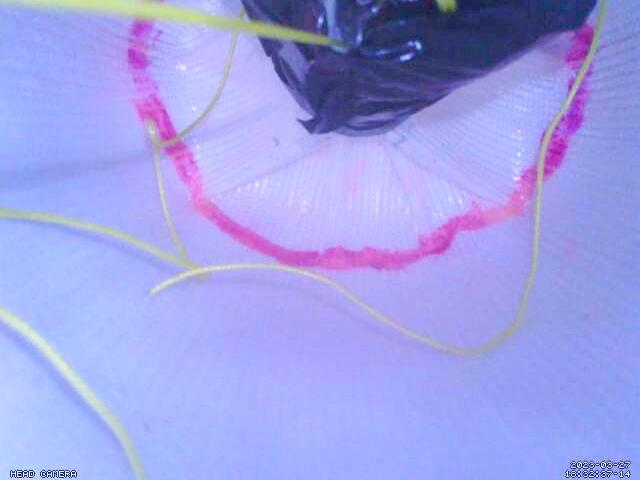head: (126, 17, 596, 273)
